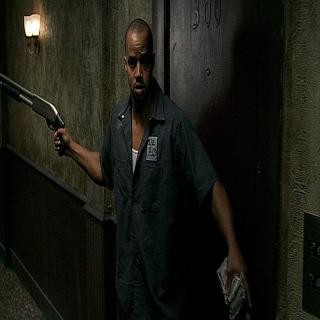gun: (2, 63, 69, 167)
